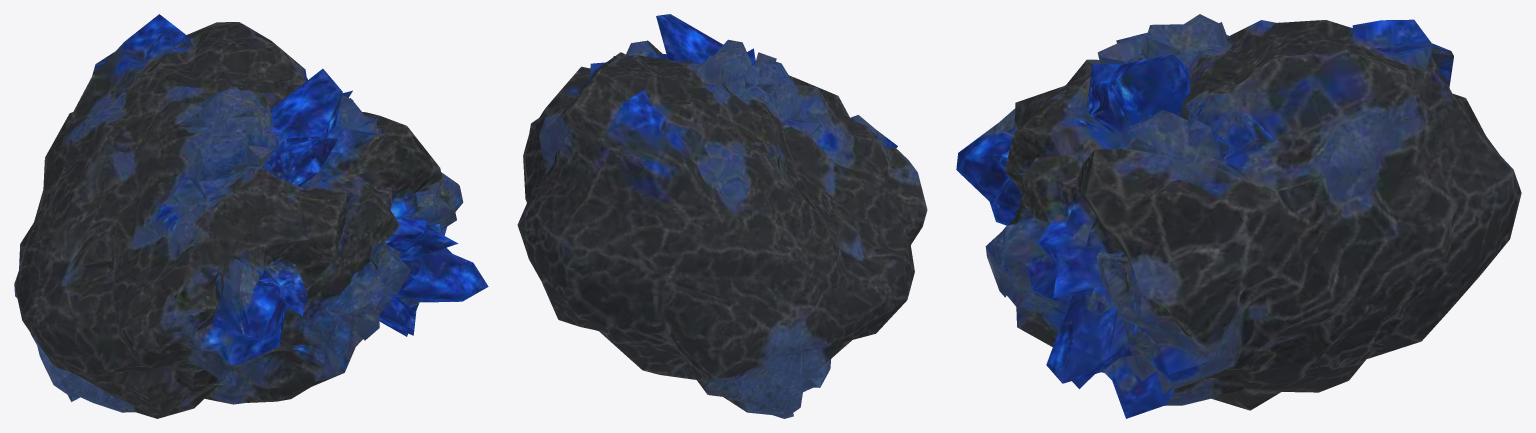
The model's file is ore-cobalt.glb.
The picture shows the model from 3 angles, left to right: view 1: azimuth 30°, elevation 25°; view 2: azimuth 150°, elevation 25°; view 3: azimuth 270°, elevation 25°; orthographic projection. The views are drawn at different scales.
Visible parts, largest first — view 1: ore-cobalt; view 2: ore-cobalt; view 3: ore-cobalt.
Part boxes in pixels (x1,y1,x2,y2): ore-cobalt: (14, 14, 488, 418); ore-cobalt: (517, 14, 927, 418); ore-cobalt: (956, 14, 1521, 418).
Bounding box in the file's own units: 1.97 × 1.54 × 2.
Materials: 1 (1 with a texture image).
